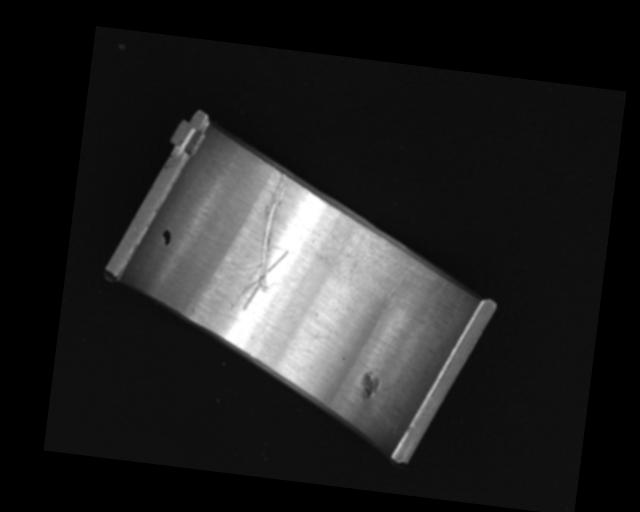blot: (159, 227, 173, 248)
bruise: (358, 370, 381, 402)
nick: (231, 167, 301, 315)
scratch: (329, 224, 453, 312)
